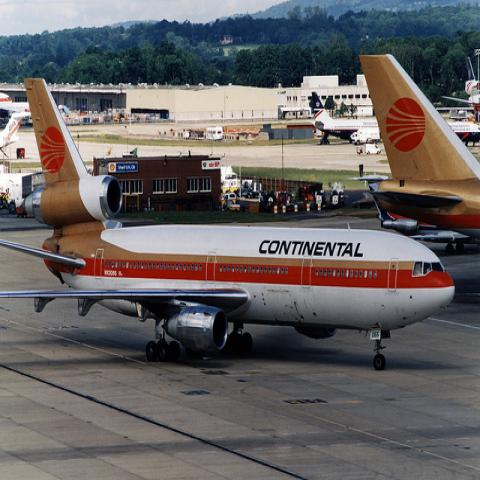bus: (206, 126, 223, 140)
truck: (354, 127, 380, 144), (365, 144, 381, 156)
